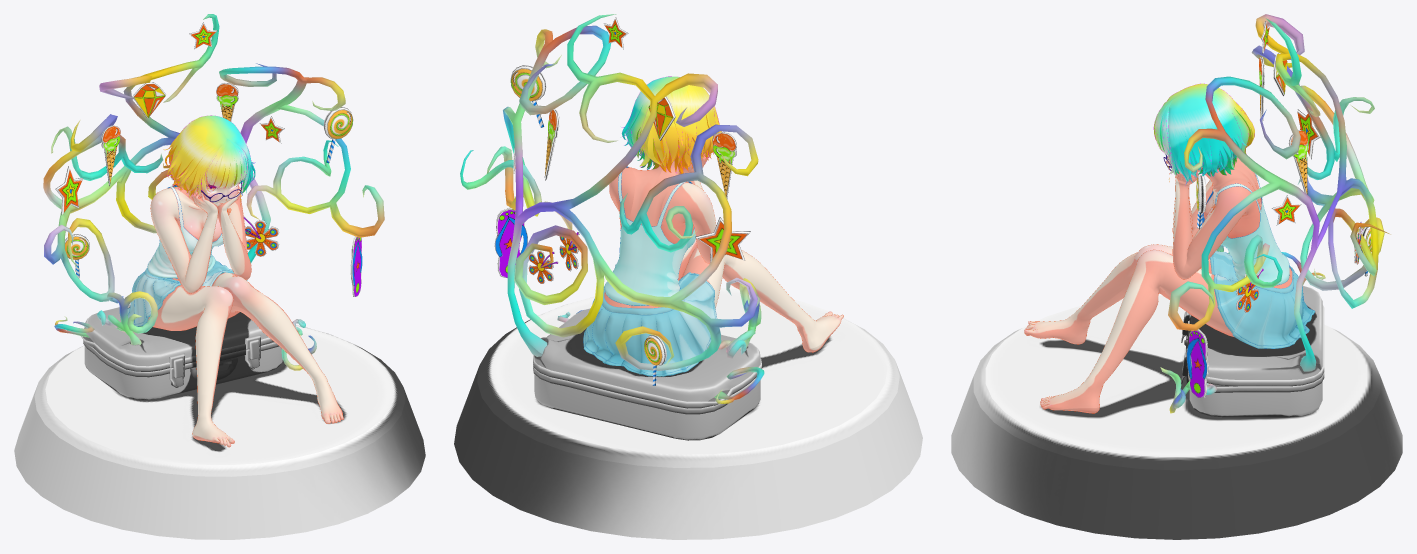
The model's file is just_a_girl.glb.
3 renders of one model, left to right at view 1: azimuth 30°, elevation 25°; view 2: azimuth 150°, elevation 25°; view 3: azimuth 270°, elevation 25°, orthographic. The views are drawn at different scales.
Parts seen in each view (by area): view 1: Cube; view 2: Cube; view 3: Cube.
Part boxes in pixels (bbox=[...]): Cube: bbox=[14, 14, 425, 539]; Cube: bbox=[454, 14, 922, 539]; Cube: bbox=[951, 14, 1402, 539].
Bounding box in the file's own units: 18.3 × 19.54 × 18.22.
Materials: 3 (3 with a texture image).
